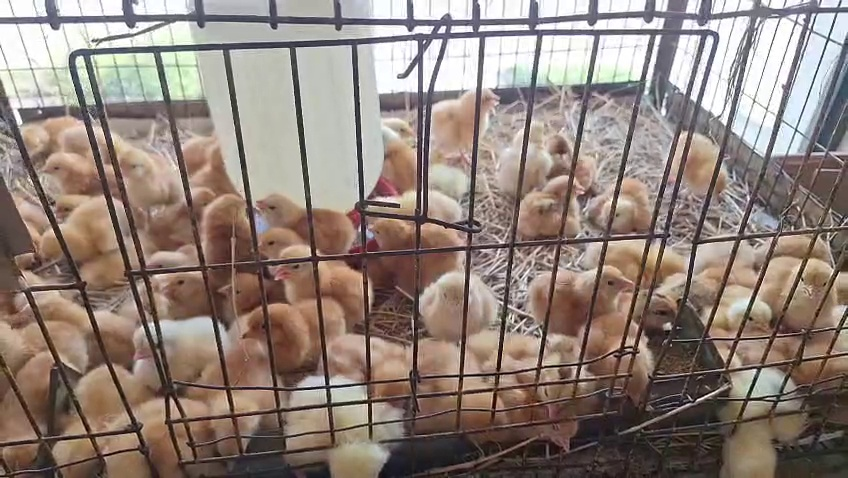Pollo: (280, 362, 423, 478), (187, 341, 307, 474), (412, 332, 532, 453), (709, 362, 828, 478), (0, 330, 76, 478), (50, 360, 143, 478), (577, 312, 679, 403), (250, 179, 370, 256), (368, 206, 488, 283), (114, 310, 234, 387), (90, 394, 210, 471), (577, 218, 697, 295), (25, 287, 145, 364), (395, 264, 515, 341), (260, 255, 379, 332), (236, 288, 356, 364), (513, 256, 633, 332), (33, 120, 128, 197), (754, 256, 848, 332), (426, 78, 513, 158), (34, 194, 132, 265), (510, 170, 599, 247), (617, 268, 702, 345), (656, 129, 739, 206), (586, 163, 660, 241), (0, 88, 82, 158), (490, 108, 553, 197), (107, 141, 179, 218), (357, 106, 428, 183), (528, 328, 587, 420), (703, 283, 776, 355), (150, 169, 218, 246), (189, 187, 256, 264), (500, 400, 592, 456), (367, 178, 471, 226), (533, 124, 597, 184), (151, 260, 220, 311), (217, 262, 273, 316), (148, 238, 188, 289), (47, 191, 100, 229), (254, 221, 306, 258)
